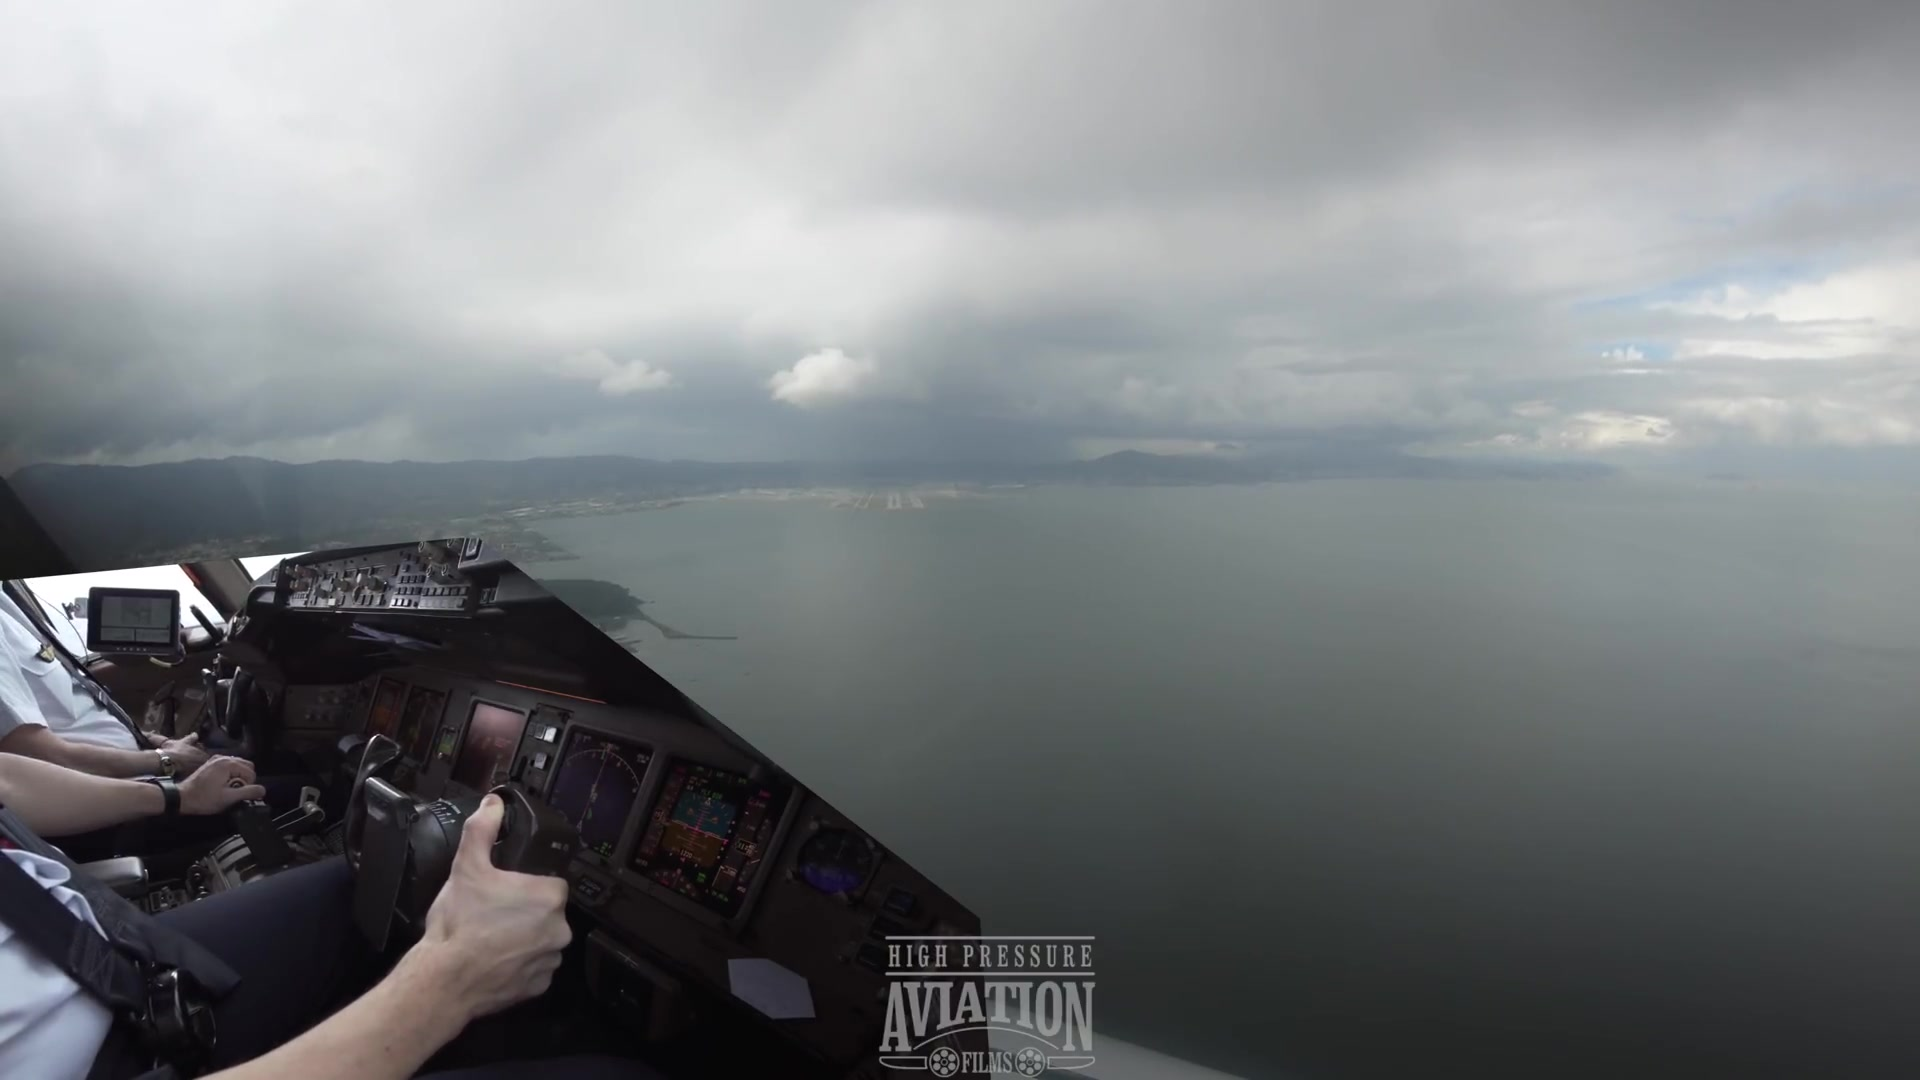runway: (905, 488, 926, 509), (885, 488, 903, 512)
